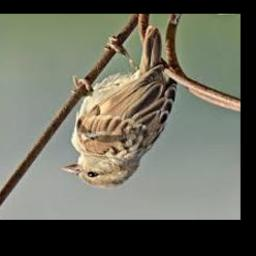Sparrow: (61, 25, 177, 188)
